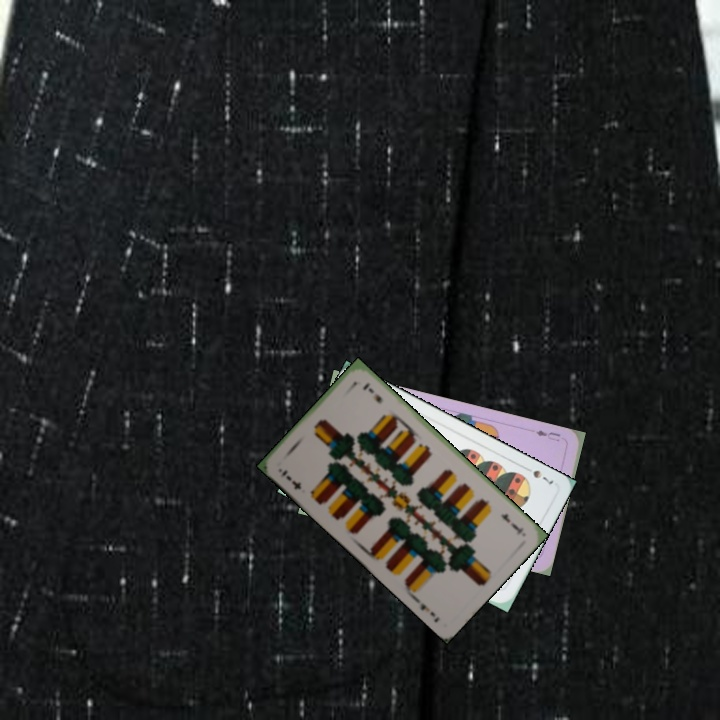E7: (497, 509, 526, 538), (277, 465, 304, 492)
EU: (531, 426, 563, 444)
S7: (519, 462, 556, 487)
